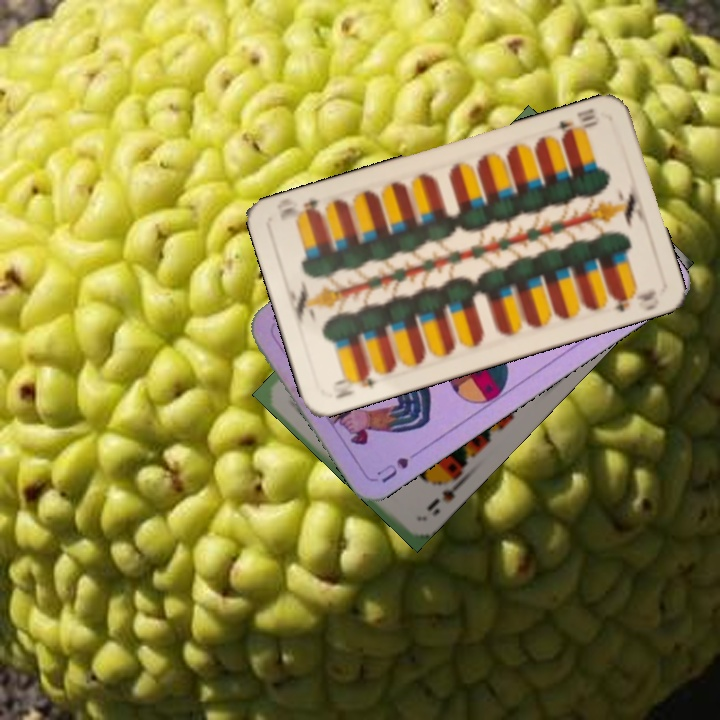E10: (548, 104, 600, 142), (330, 366, 379, 401)
S9: (422, 470, 466, 519)
SU: (373, 444, 426, 486)
